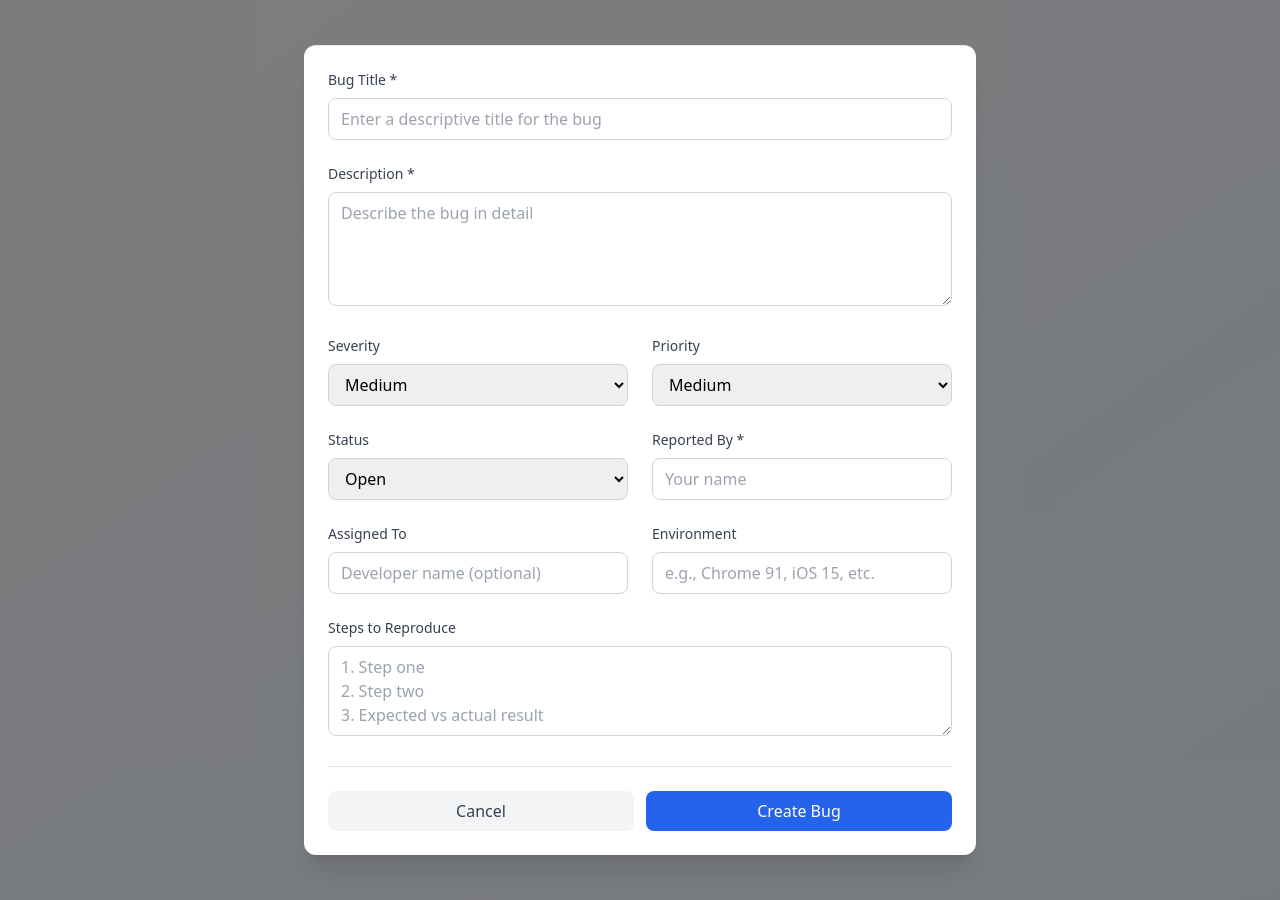
Test case: BugForm › clears errors when user starts typing
(page scrolled)
Note: Trigger validation error
Click the button "Create Bug" at (799, 811), box [646,791,952,831]
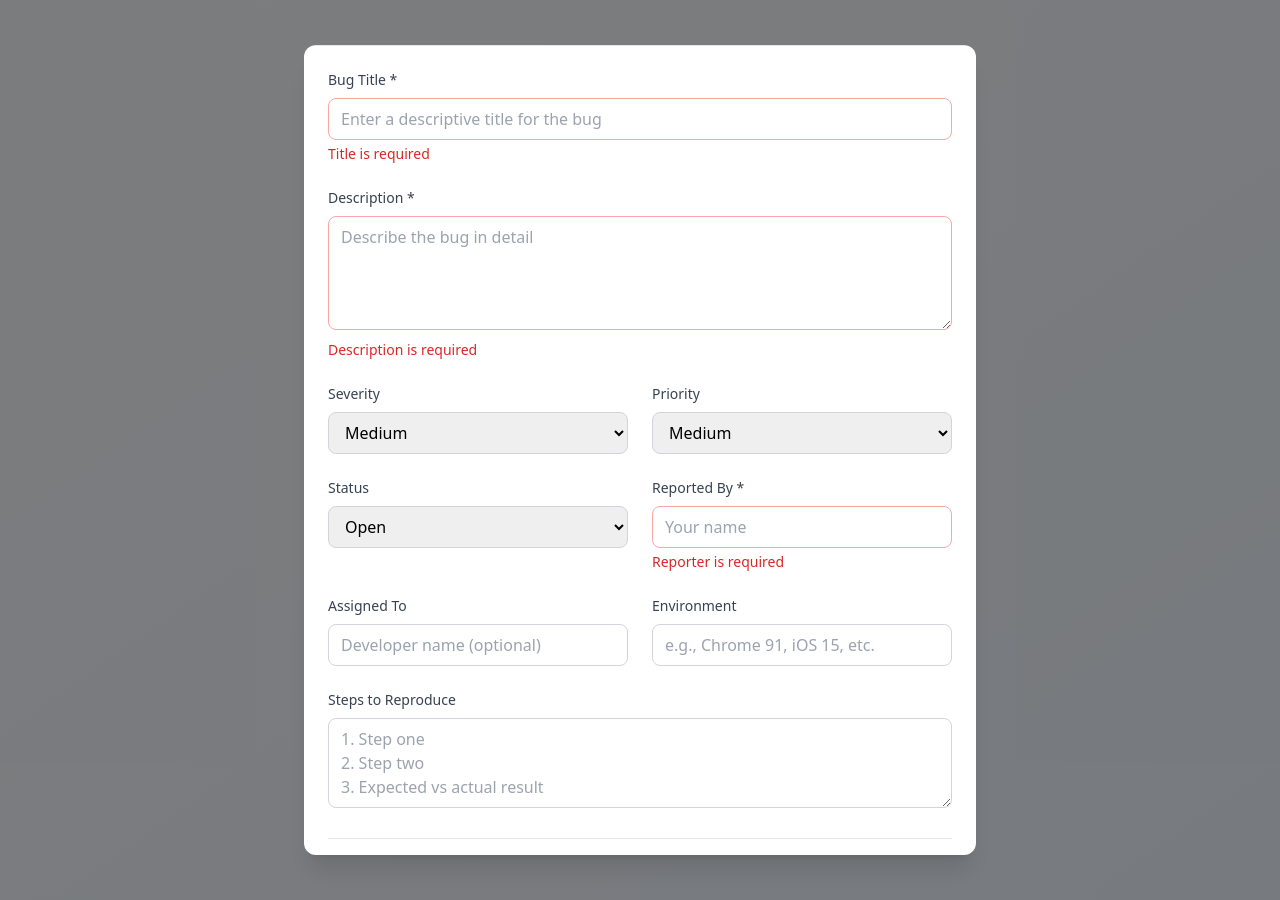
Result: the text "Title is required" is shown at [328,144,430,163]
Note: Start typing in title field
Type "T" into the field labelled "Bug Title *" at (640, 119), box [328,98,952,140]
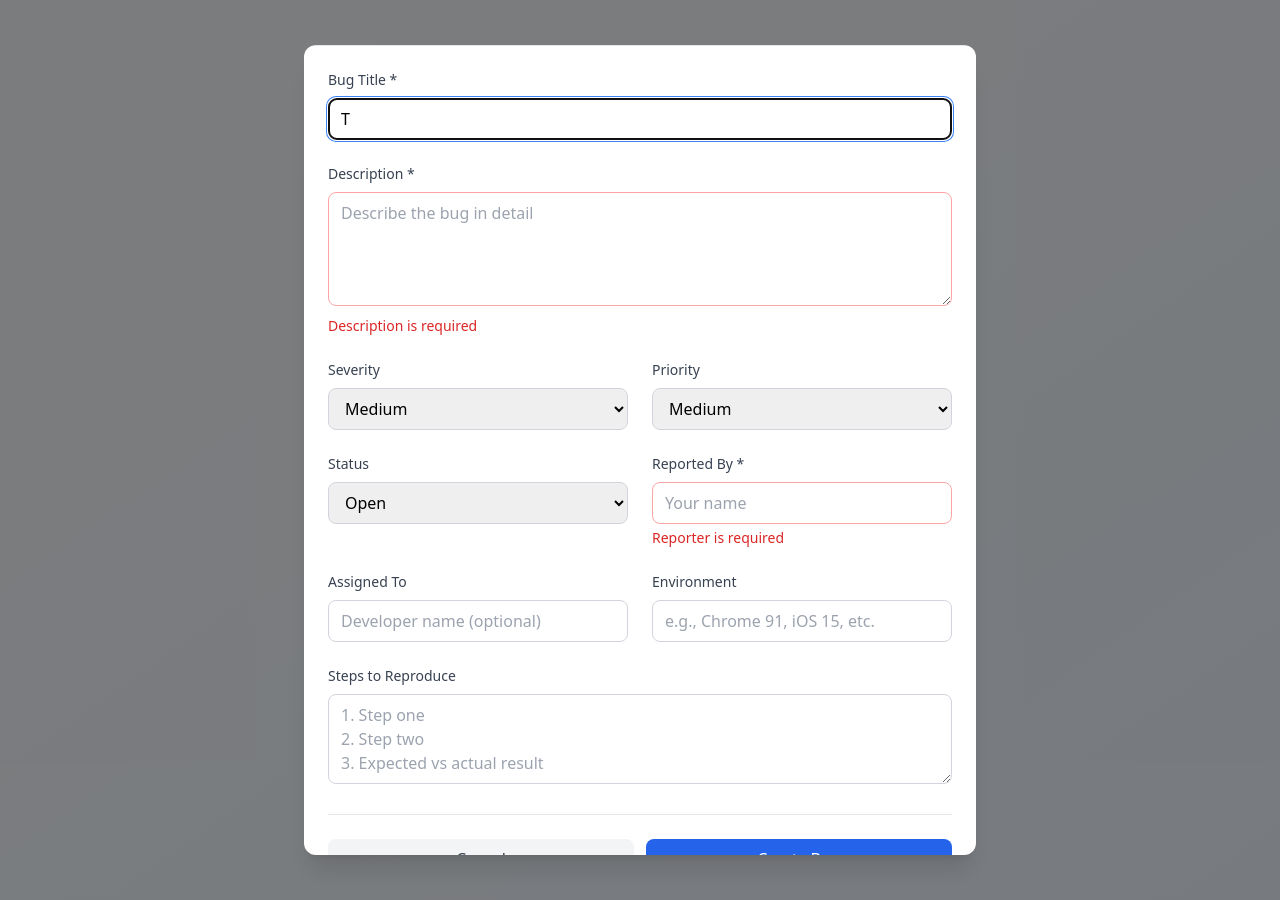
Result: the text "Title is required" is gone
